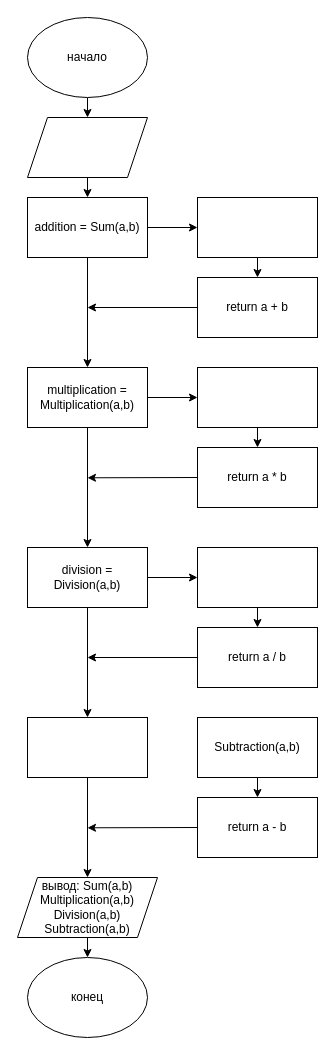
This 335x1055 diagram has some shape labels left out. The box of each missing label's shape, as (x1, y1, x2, y2) in pixels:
Division(a,b): (196, 546, 318, 608)
Multiplication(a,b): (196, 366, 318, 428)
subtraction = Subtraction(a,b): (26, 716, 148, 778)
Sum(a,b): (196, 196, 318, 258)
ввод: num1, num2: (26, 116, 148, 178)
